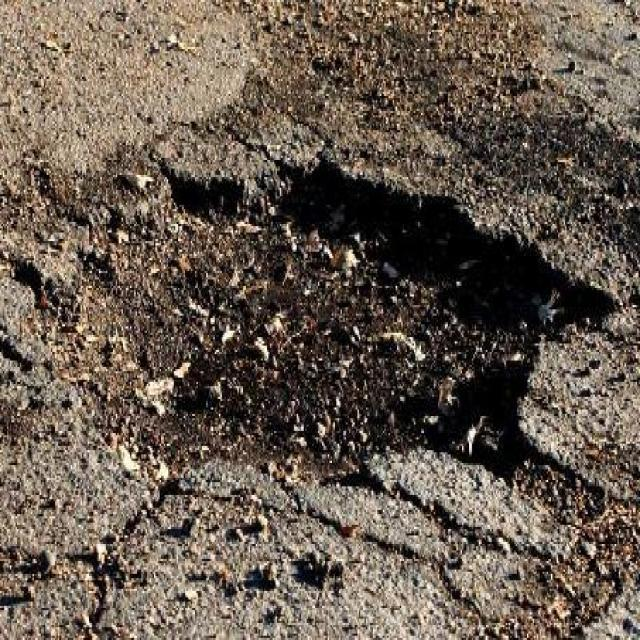Pothole: (21, 155, 620, 490)
